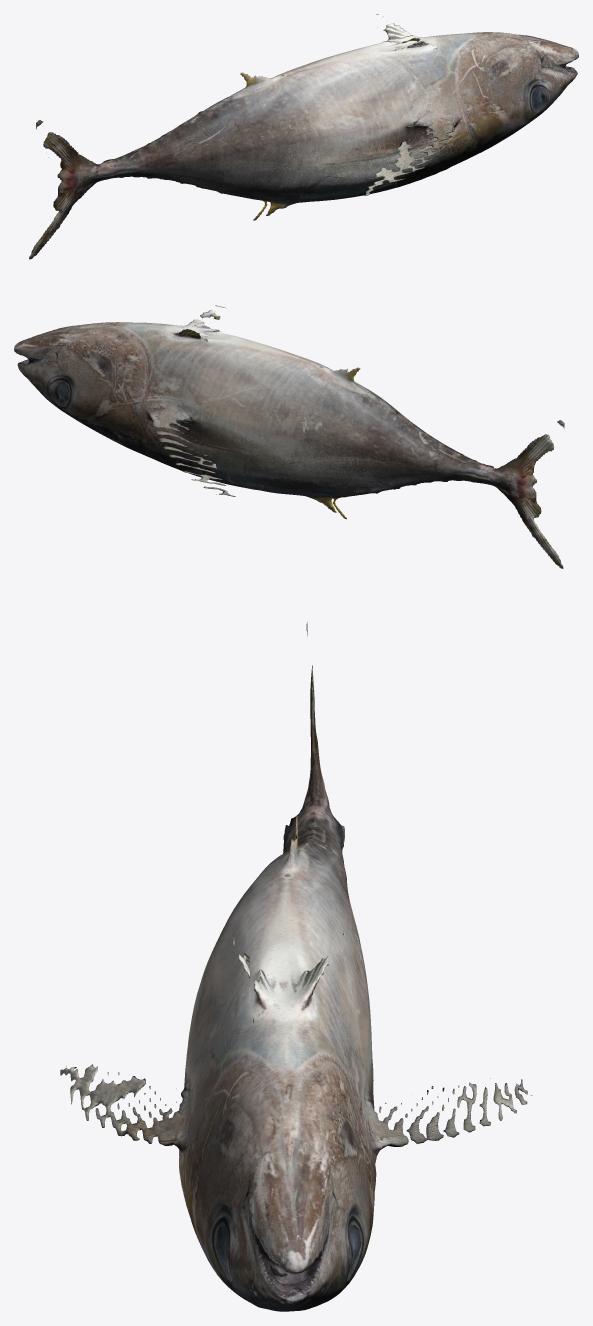
Rendered from tuna.glb.
3 views of the same model, one above another, from view 1: azimuth 30°, elevation 25°; view 2: azimuth 150°, elevation 25°; view 3: azimuth 270°, elevation 25° (orthographic). The views are drawn at different scales.
Visible parts, largest first — view 1: Tuna; view 2: Tuna; view 3: Tuna.
Part boxes in pixels (x1,y1,x2,y2): Tuna: [29, 14, 578, 259]; Tuna: [14, 305, 564, 568]; Tuna: [60, 622, 532, 1311].
Bounding box in the file's own units: 2.14 × 0.62 × 0.787.
1 material, 1 textured.
